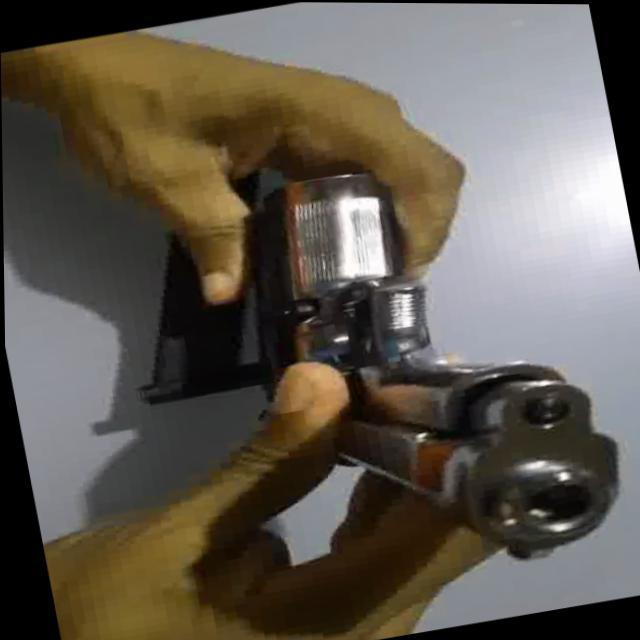weapon: (99, 130, 635, 622)
